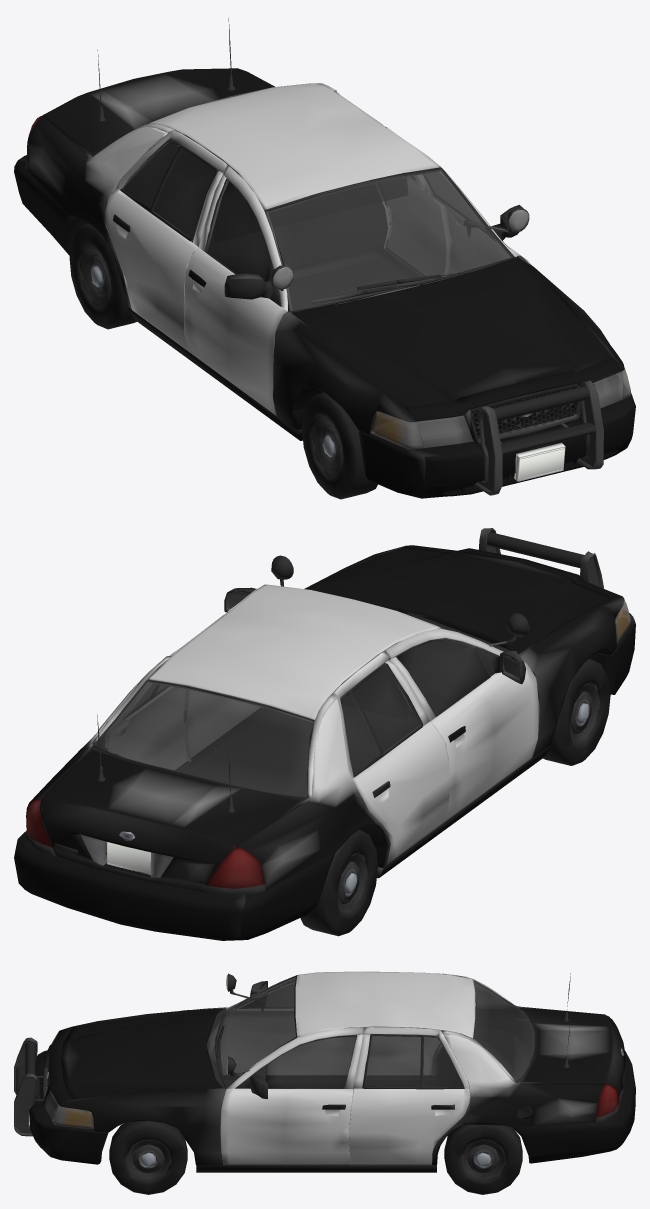
3 renders of one model, top to bottom at view 1: azimuth 30°, elevation 25°; view 2: azimuth 150°, elevation 25°; view 3: azimuth 270°, elevation 25°, orthographic. The views are drawn at different scales.
Visible parts, largest first — view 1: body, glass, wheel_FL, wheel_RL; view 2: body, glass, wheel_RL, wheel_FL; view 3: body, glass, wheel_FR, wheel_RR.
Boxes of the visible parts, x1=… form: body: x1=14, y1=18, x2=635, y2=498; glass: x1=26, y1=102, x2=631, y2=449; wheel_FL: x1=302, y1=392, x2=377, y2=499; wheel_RL: x1=69, y1=223, x2=136, y2=329; body: x1=14, y1=528, x2=635, y2=940; glass: x1=26, y1=599, x2=631, y2=888; wheel_RL: x1=300, y1=830, x2=377, y2=936; wheel_FL: x1=543, y1=659, x2=610, y2=765; body: x1=14, y1=971, x2=635, y2=1172; glass: x1=44, y1=975, x2=618, y2=1129; wheel_FR: x1=109, y1=1120, x2=187, y2=1194; wheel_RR: x1=444, y1=1124, x2=522, y2=1194.
Bounding box in the file's own units: 2.15 × 1.52 × 5.39.
